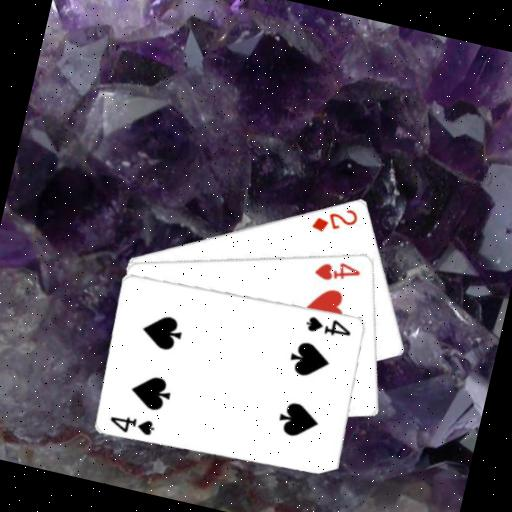2D: (308, 198, 363, 242)
4H: (310, 252, 365, 289)
4S: (302, 309, 356, 342), (105, 409, 159, 440)
